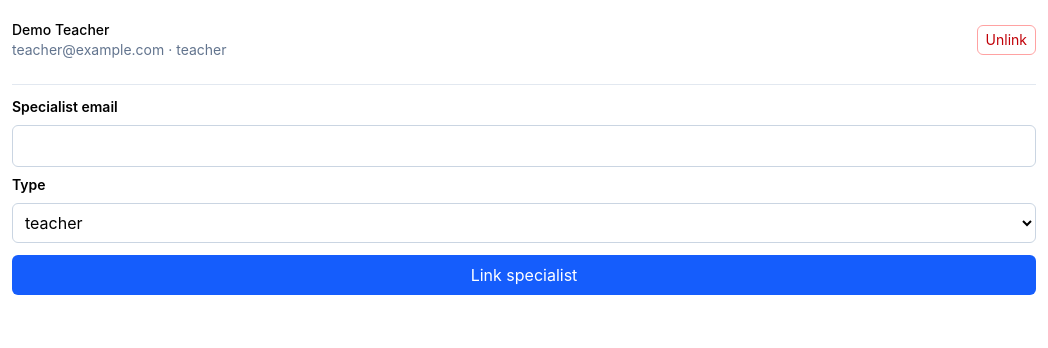
Test case: LinkedSpecialists › shows the API error when unlinking fails and keeps the specialist (US-M2-03)
The image size is (1048, 348).
Step 1. Click the button with aria-label "Unlink Demo Teacher" → (1006, 40), box [977,25,1036,55]
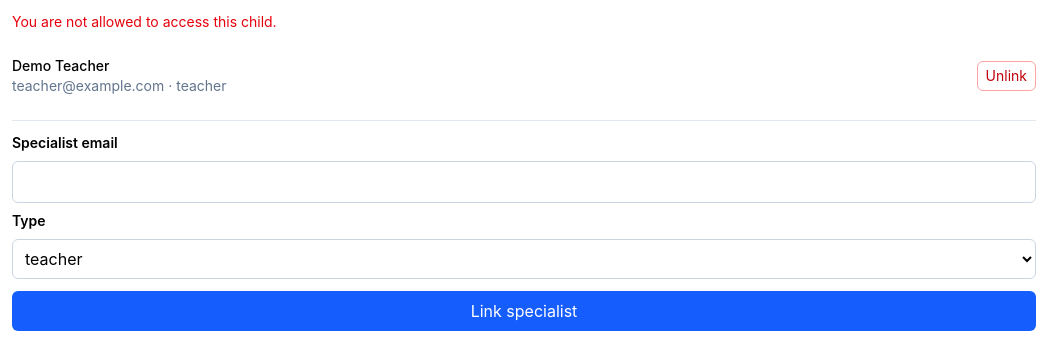
expect the text "Demo Teacher" is shown: met, box [12,57,110,74]
expect the message reads "You are not allowed to access this child.": met, box [12,13,277,30]
